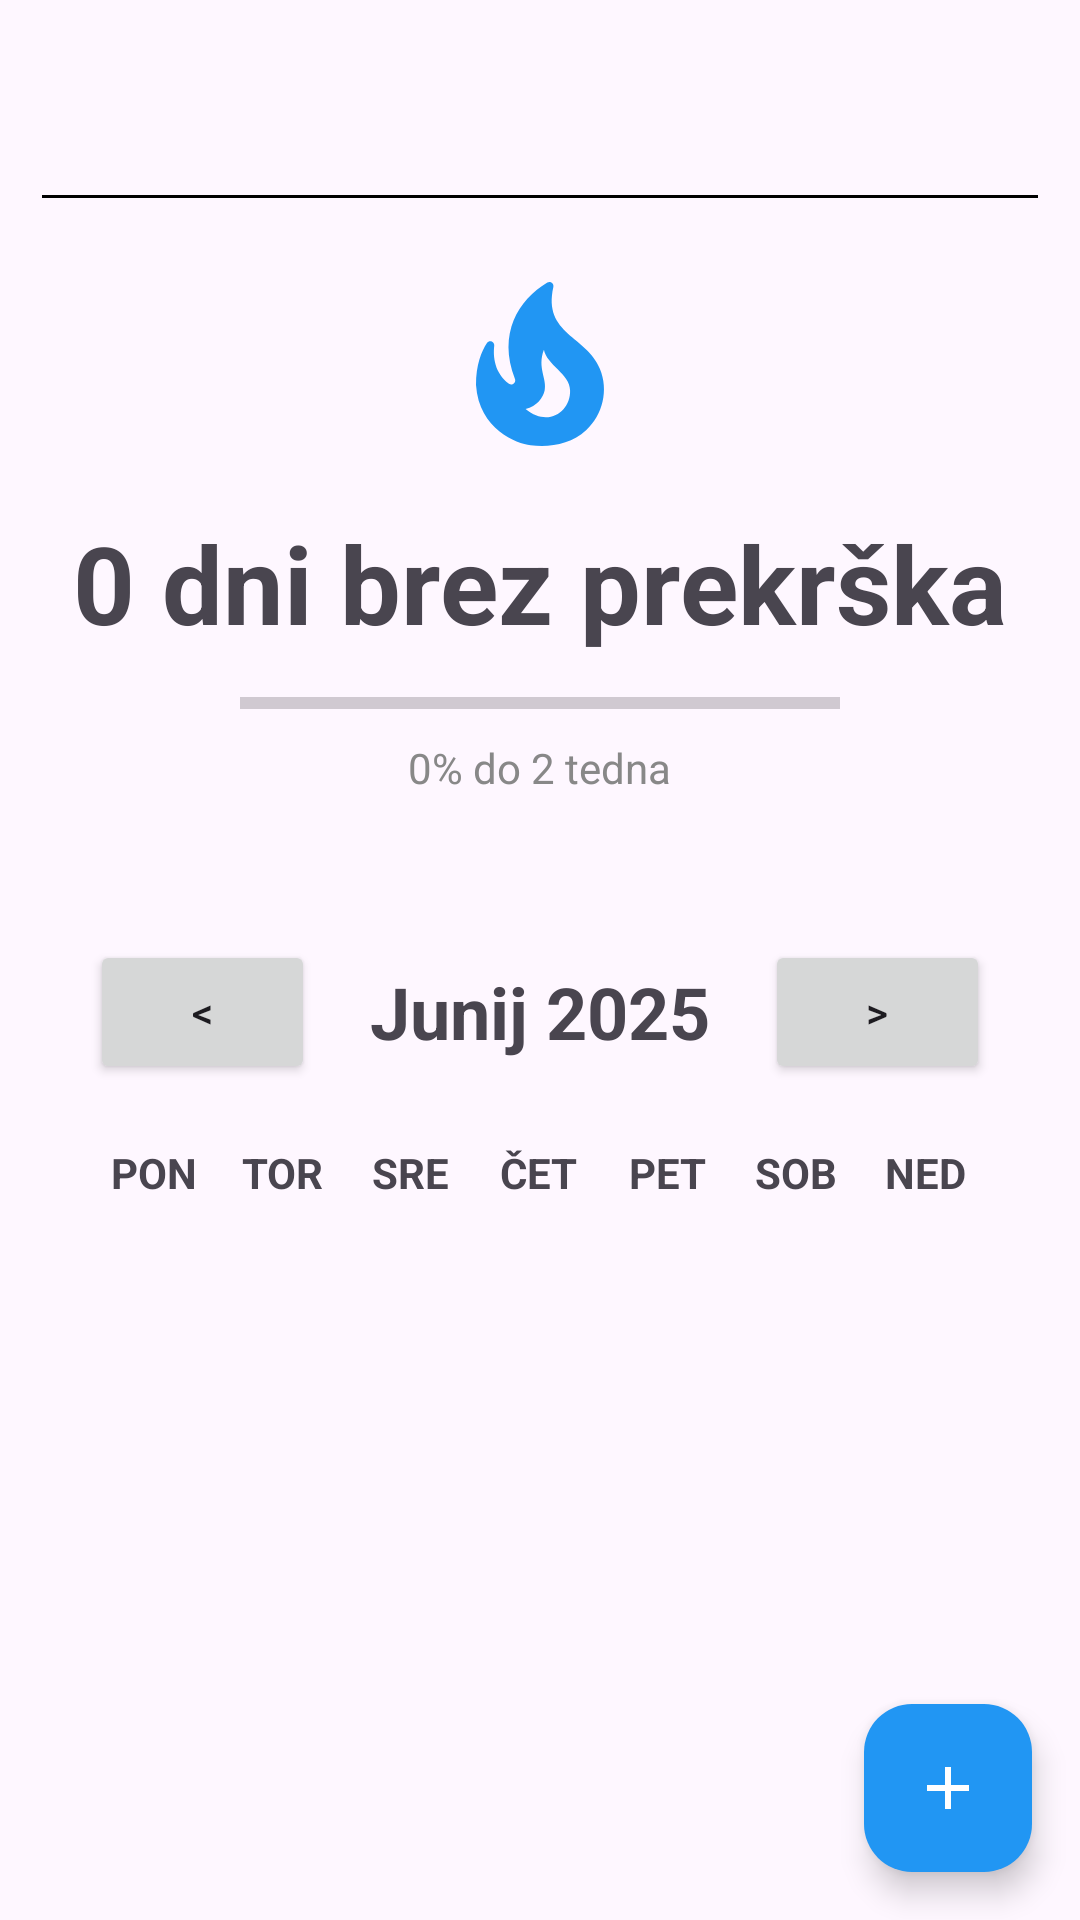

Named icons in this screenshot (1080w x 1920h) and their bounding boxes, (left=x1, top=y1, right=x2, bottom=y2):
add: (left=864, top=1704, right=1032, bottom=1872)
local fire department: (left=476, top=282, right=604, bottom=446)
